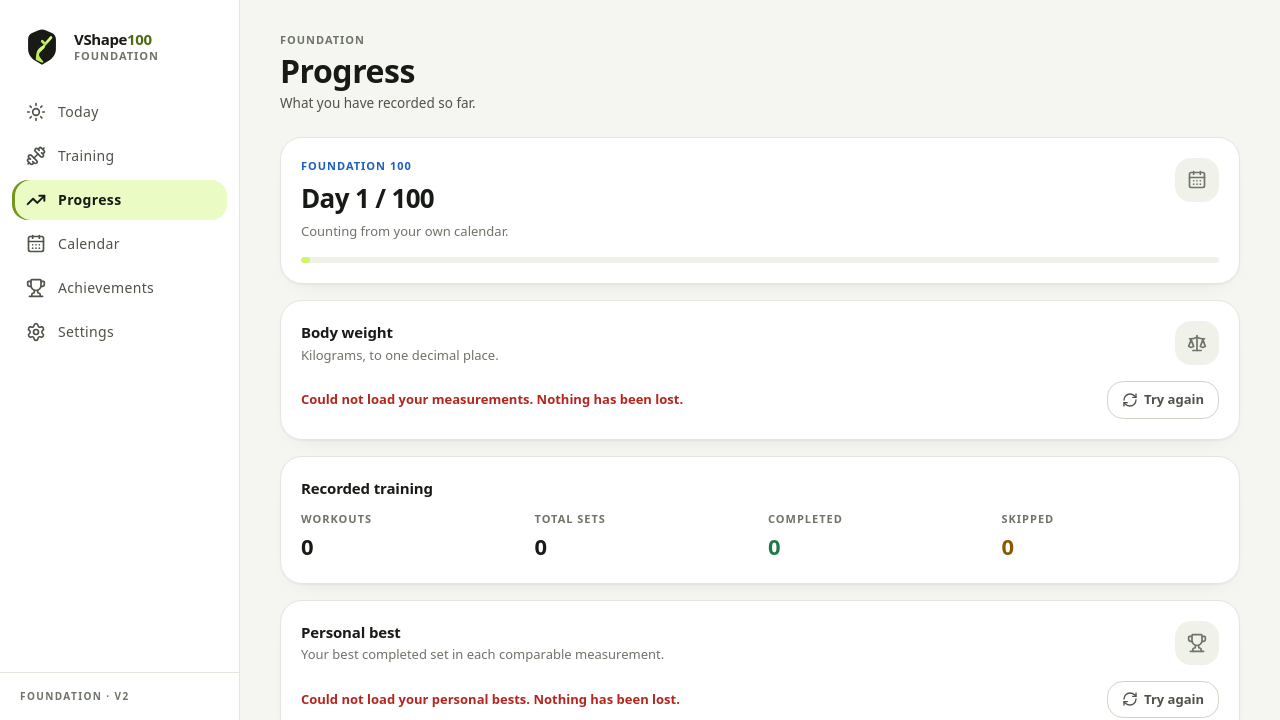
Test case: 1. personal best › says so when the request fails, and offers a retry
Expected: the heading "Progress" is shown, [280, 48, 415, 92]
Click the 2nd button "Try again".
click(1163, 699)  # box [1107, 681, 1219, 718]
(page scrolled)
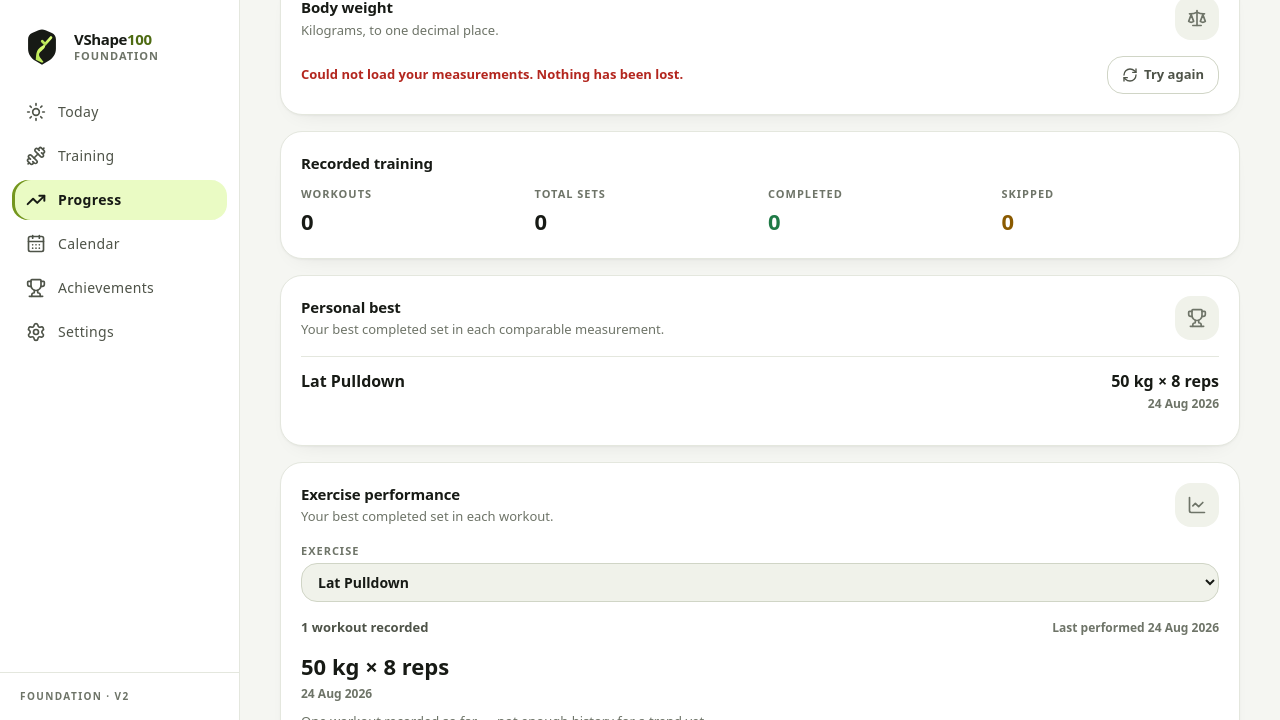
Result: the element that starts with "Personal best" shows "50 kg" at [1111, 370, 1219, 392]
